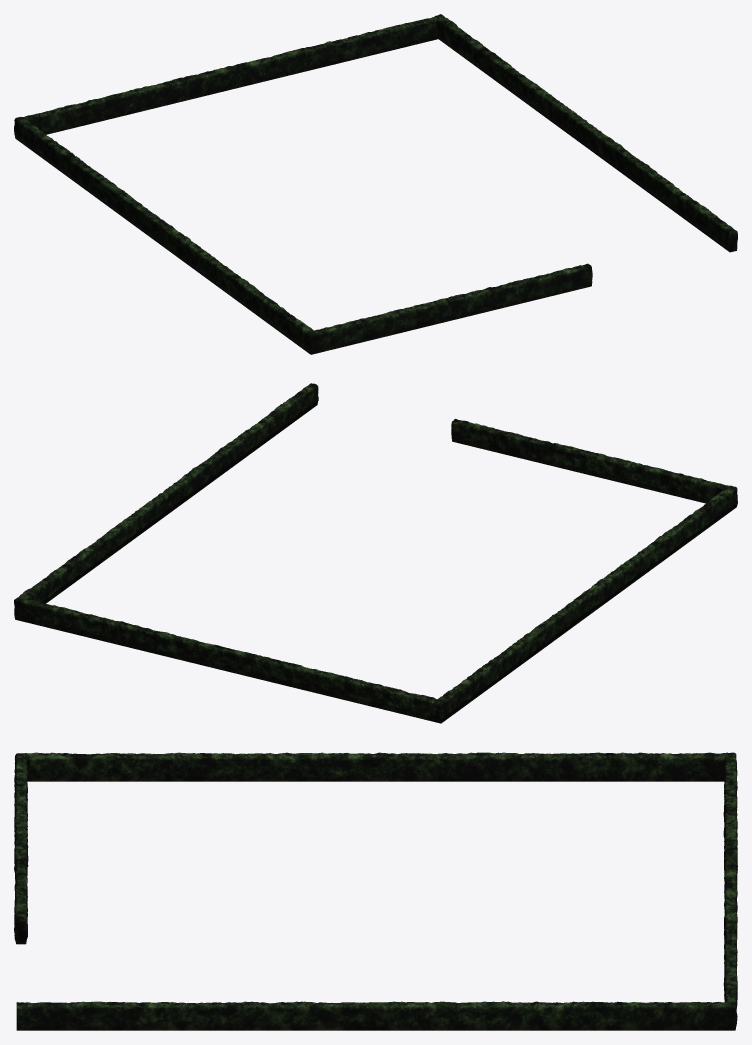
Rendered from hecke.glb.
3 renders of one model, top to bottom at view 1: azimuth 30°, elevation 25°; view 2: azimuth 150°, elevation 25°; view 3: azimuth 270°, elevation 25°, orthographic. The views are drawn at different scales.
Parts seen in each view (by area): view 1: Licht_hecke; view 2: Licht_hecke; view 3: Licht_hecke.
Part boxes in pixels (x1=…): Licht_hecke: x1=14, y1=14, x2=737, y2=354; Licht_hecke: x1=14, y1=383, x2=737, y2=723; Licht_hecke: x1=14, y1=752, x2=737, y2=1030.
Size of the model in its own units: 39.99 by 1.88 by 47.96.
1 material, 1 textured.
